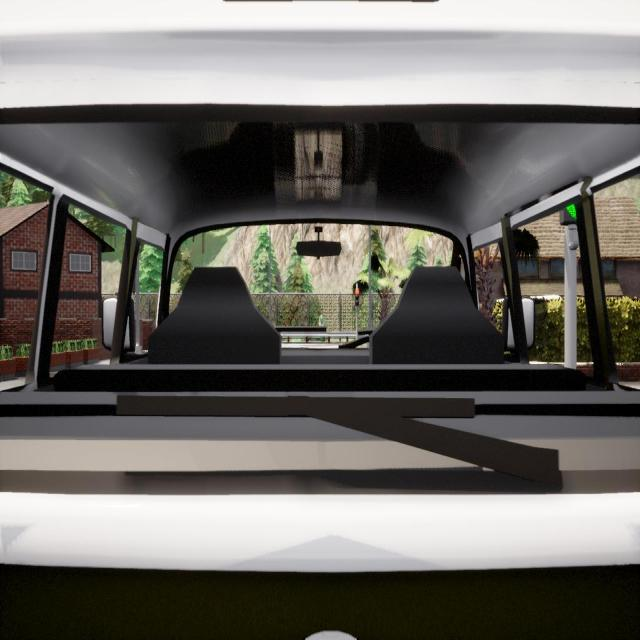Pedestrian: (316, 311, 326, 342)
Vehicle: (2, 2, 640, 638)
traffic_light: (559, 202, 577, 226), (354, 289, 360, 306)
